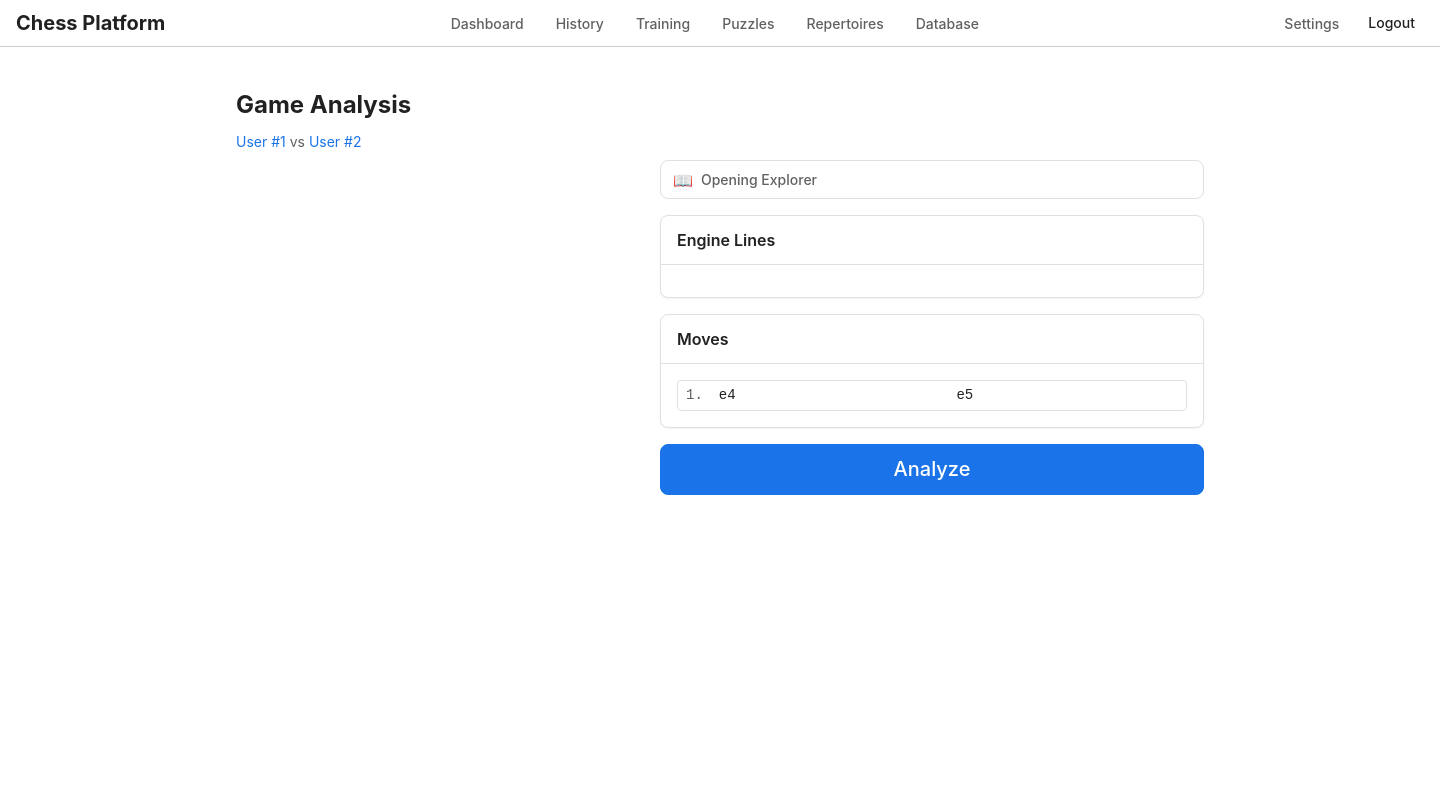
AnalysisPage › ArrowLeft exits variation mode when pressed at the start
Click the button with test id "analyze-button": (932, 470) [660,444,1204,495]
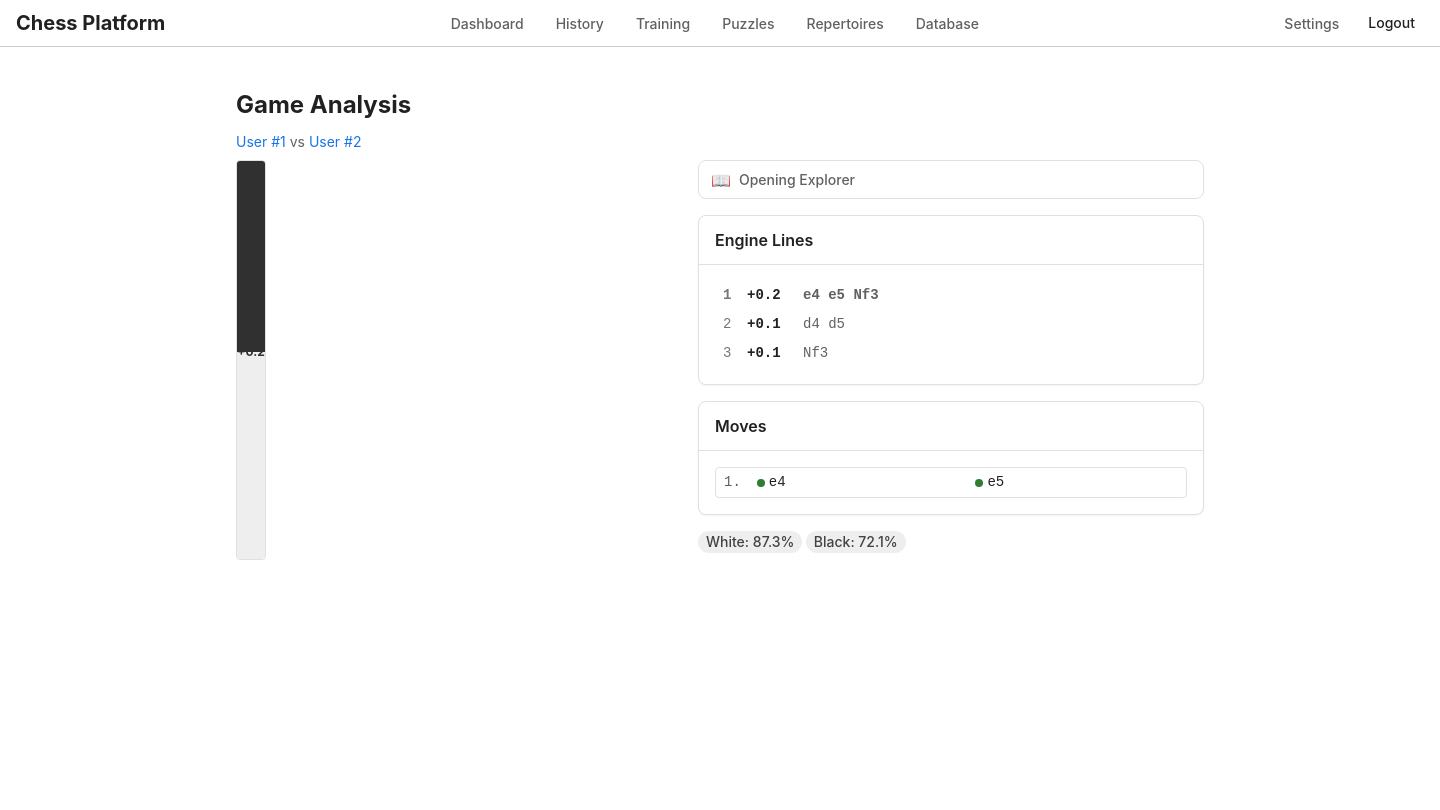
Check: the element with test id "accuracy-display" is shown, box [698,531,906,553]
Check: the element with test id "engine-lines-panel" is shown, box [715,281,1187,368]
Click the button with test id "engine-line-1": (764, 324) [715,310,1203,339]
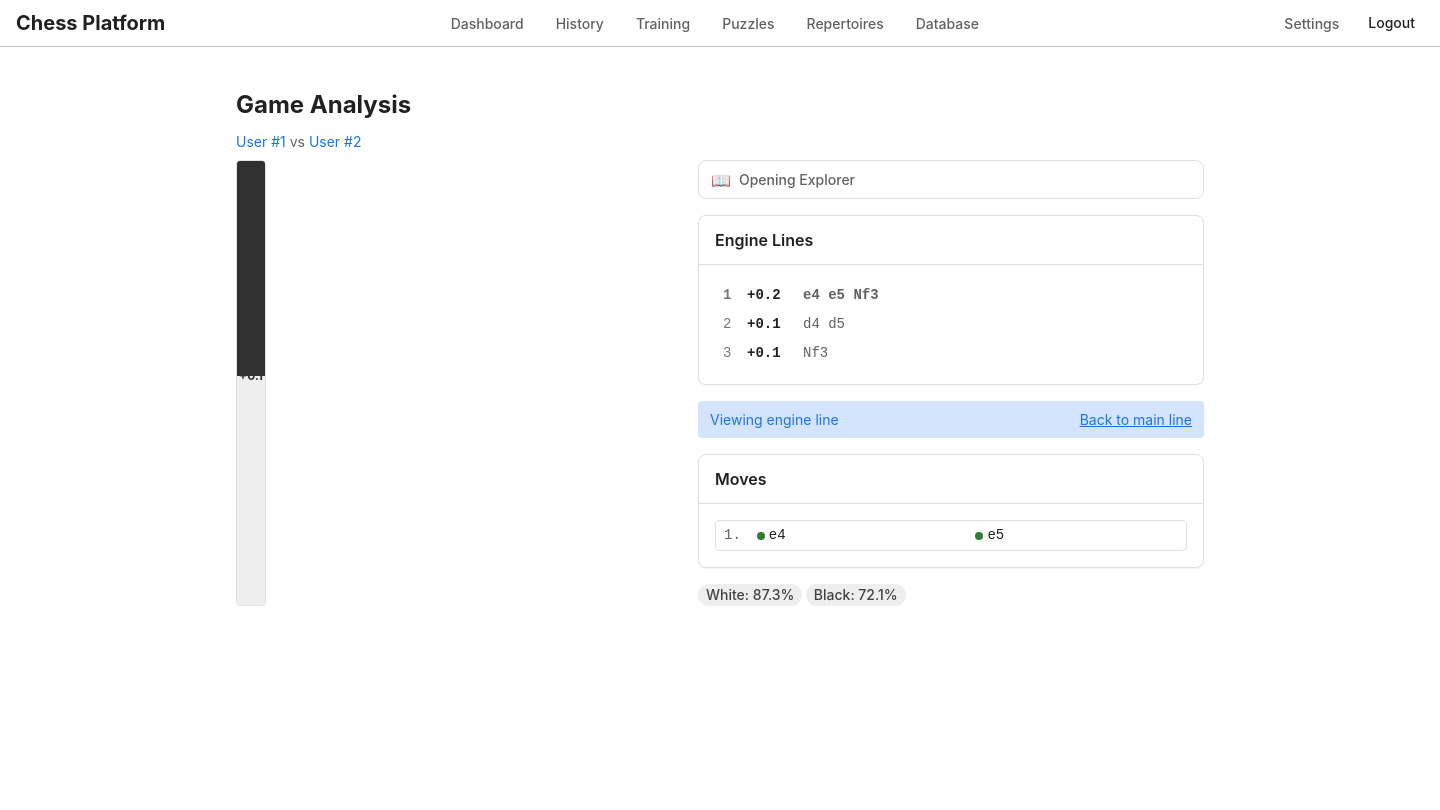
Check: the element with test id "variation-indicator" is shown, box [698,401,1204,438]
Press ArrowLeft
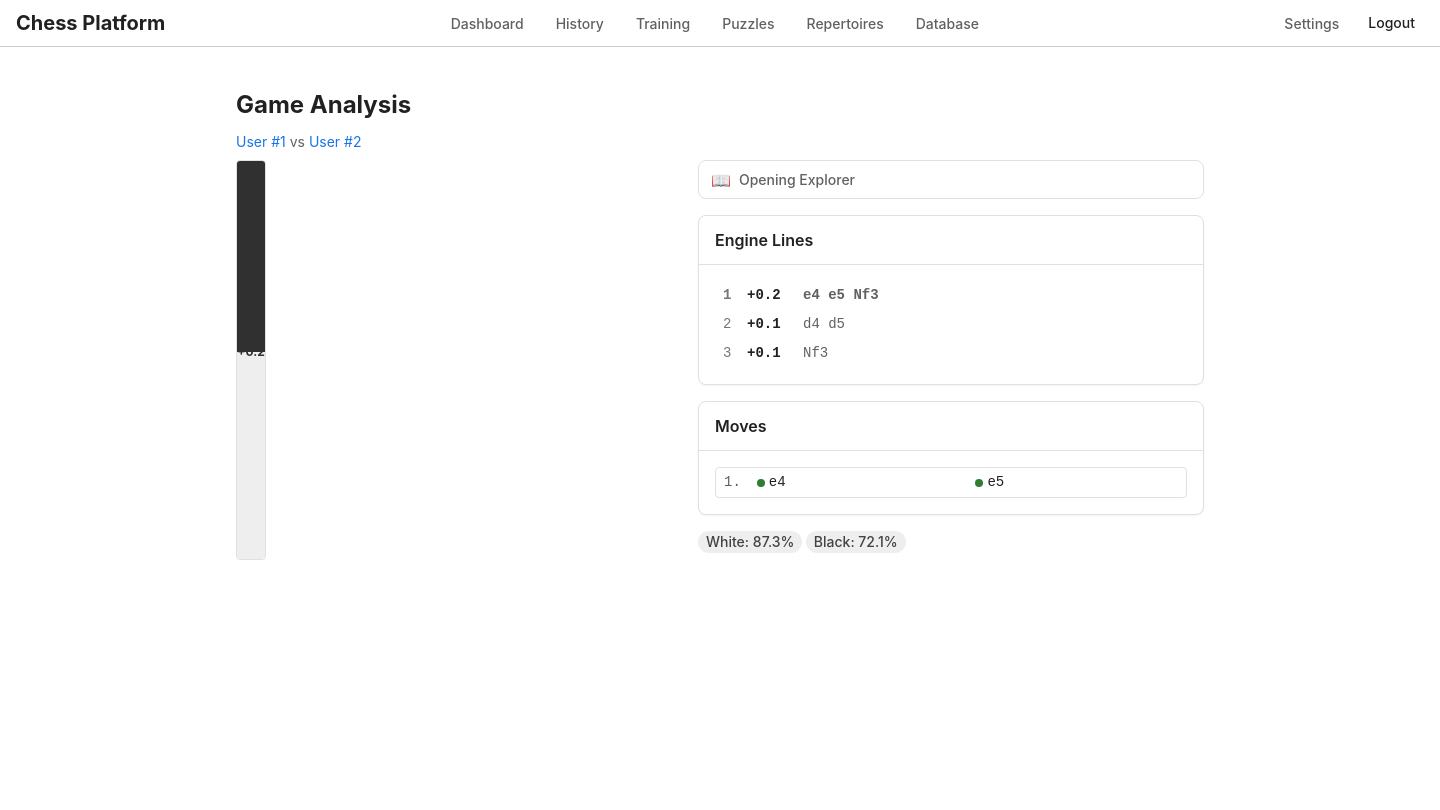
Check: the element with test id "variation-indicator" is gone
Check: the text with test id "eval-score" reads "+0.2", box [237,344,265,359]
